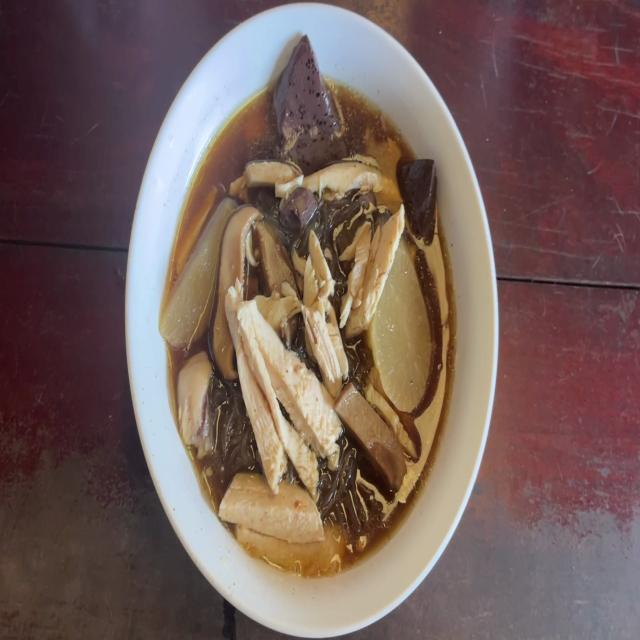boiled_chicken_blood_jelly: (277, 46, 345, 156), (401, 157, 440, 240), (284, 191, 314, 226)
chicken_shredded: (227, 293, 337, 494), (216, 477, 334, 574), (302, 242, 349, 406), (344, 218, 390, 328), (241, 162, 392, 195), (173, 356, 221, 453)
daikon_radish: (158, 190, 225, 342), (379, 260, 426, 408)
noodle: (180, 69, 448, 565)
